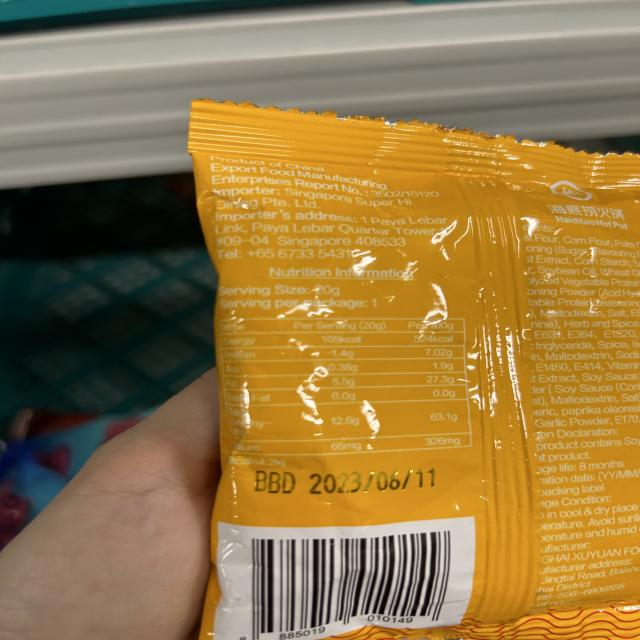object_name: (211, 117, 640, 638)
